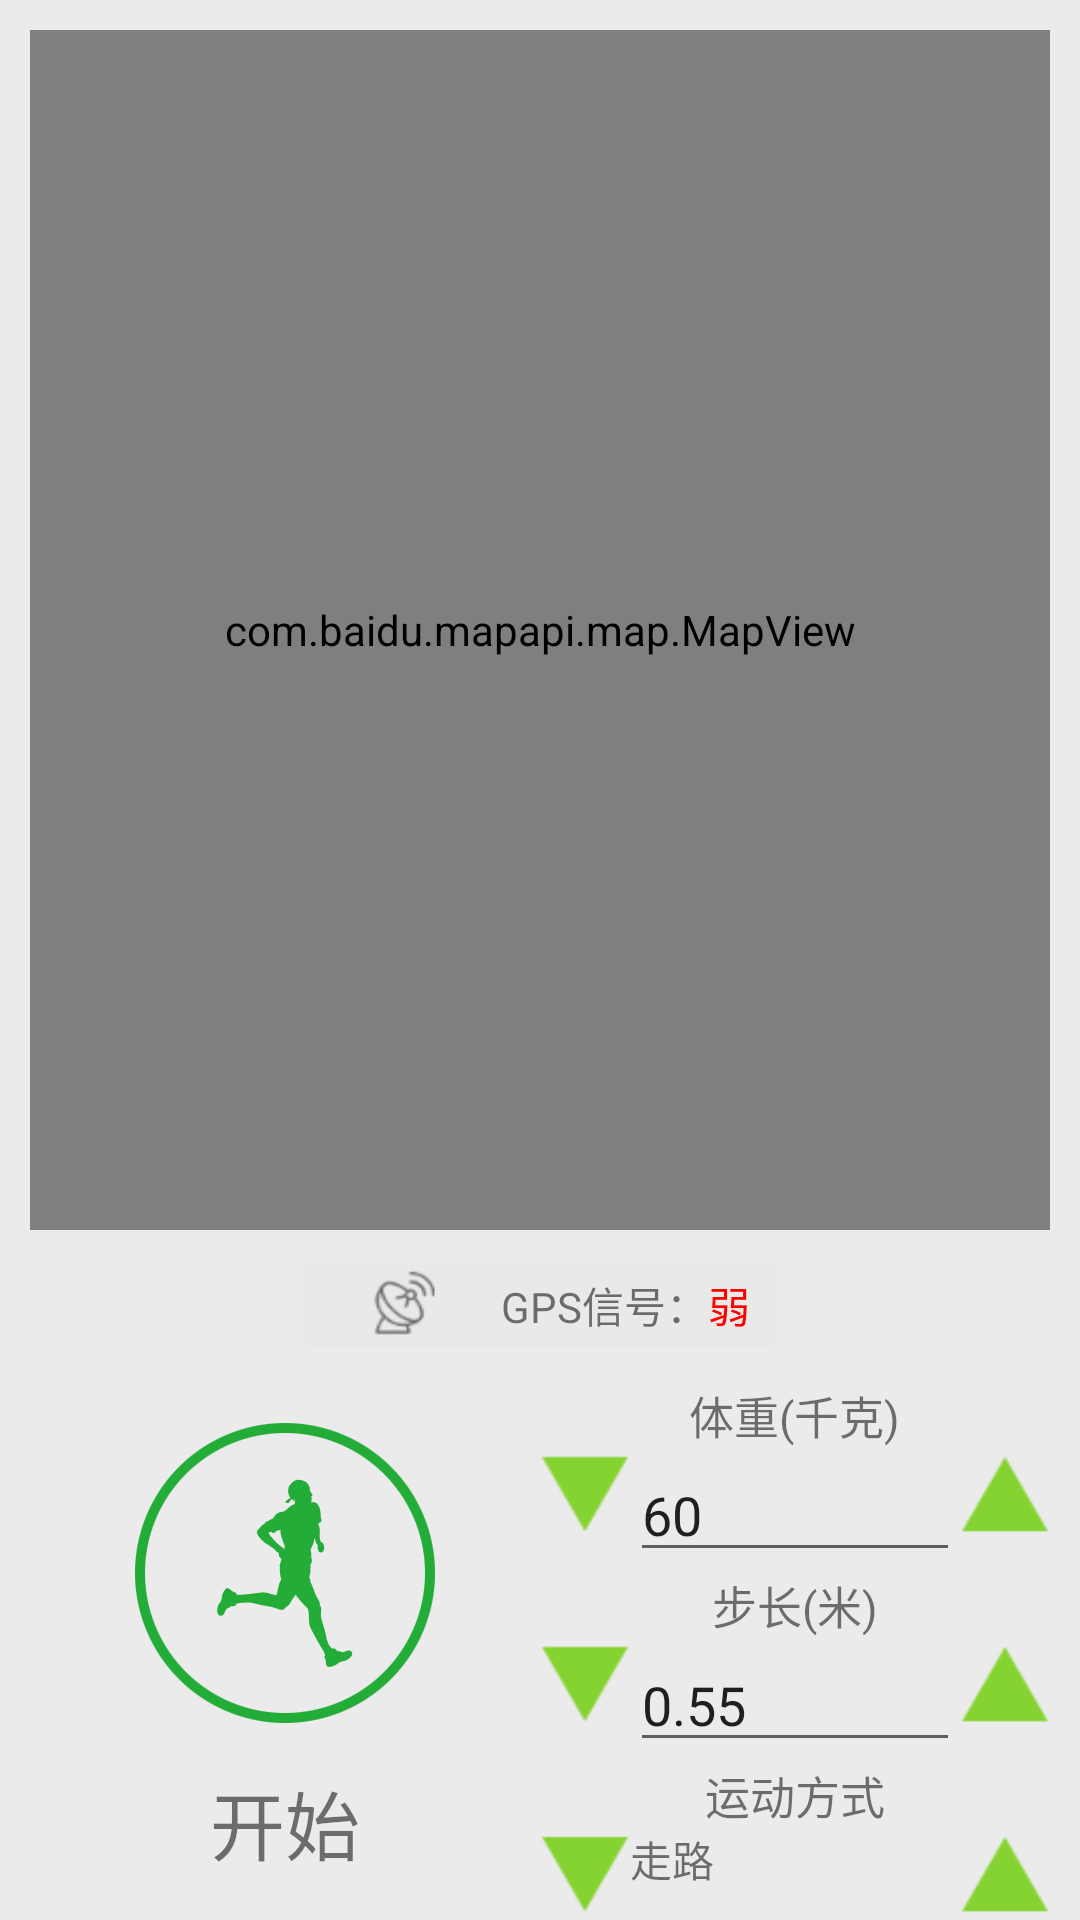

Icon click points for this 1080 x 1920 phone screenshot, format (x=x, y=y):
add: (x=1005, y=1494), (x=1005, y=1684), (x=1005, y=1874)
sub: (x=585, y=1493), (x=585, y=1683), (x=585, y=1873)
